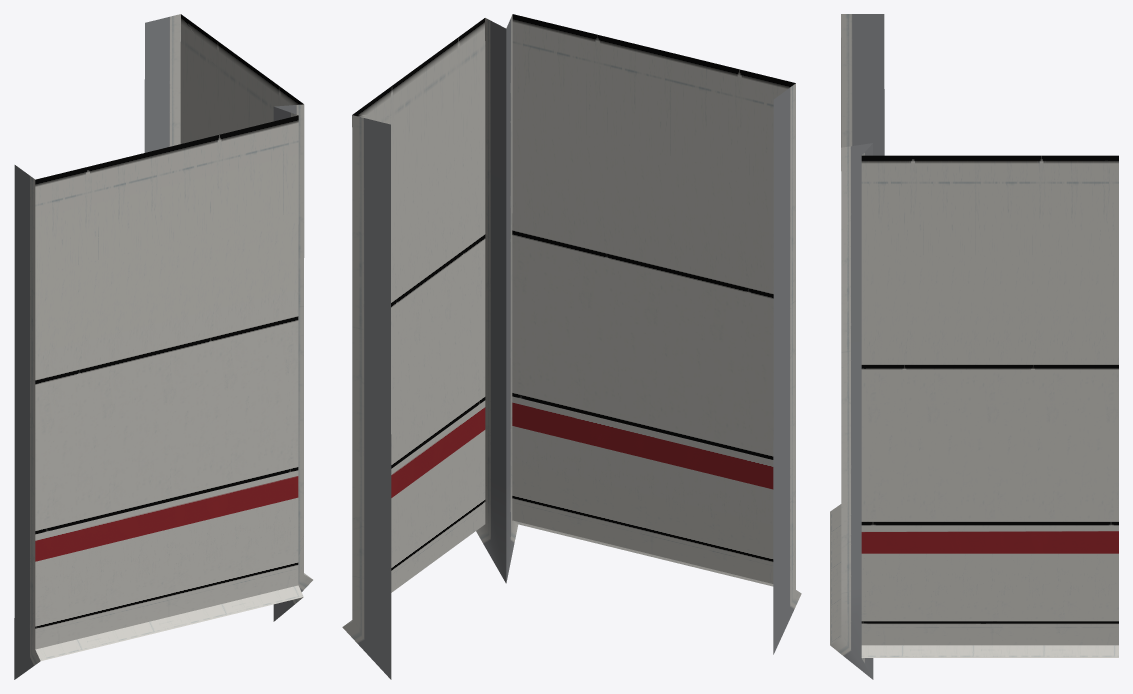
File: G_Env_Arch_Corridor_04_Corner.fbx
3 views of the same model, side by side, from view 1: azimuth 30°, elevation 25°; view 2: azimuth 150°, elevation 25°; view 3: azimuth 270°, elevation 25° (orthographic). The views are drawn at different scales.
Visible parts, largest first — view 1: G_Env_Arch_Floor_Metal_01_Corner.007; view 2: G_Env_Arch_Floor_Metal_01_Corner.007; view 3: G_Env_Arch_Floor_Metal_01_Corner.007.
Part boxes in pixels (box(x1,y1,x2,y2)): G_Env_Arch_Floor_Metal_01_Corner.007: box(14, 14, 312, 679); G_Env_Arch_Floor_Metal_01_Corner.007: box(342, 14, 801, 679); G_Env_Arch_Floor_Metal_01_Corner.007: box(830, 14, 1118, 679).
Bounding box in the file's own units: 593 × 1015 × 495.
